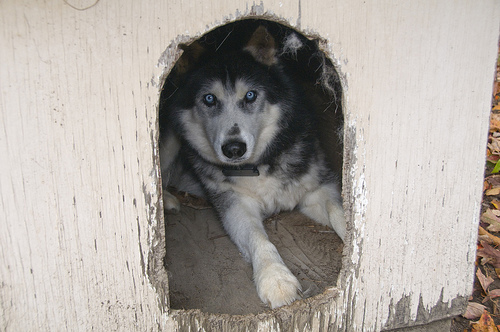dog: (157, 22, 347, 312)
